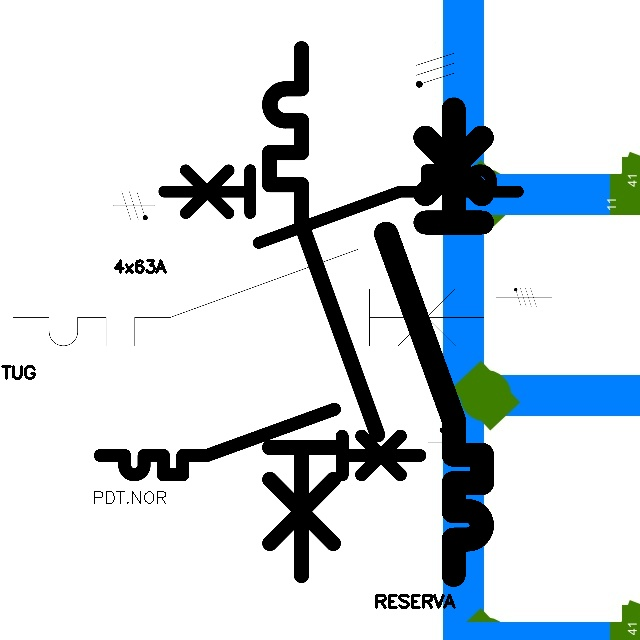interruptor_termomagnetico: (256, 35, 391, 589), (1, 237, 495, 358), (374, 97, 494, 587), (155, 161, 527, 252), (92, 401, 428, 483)
